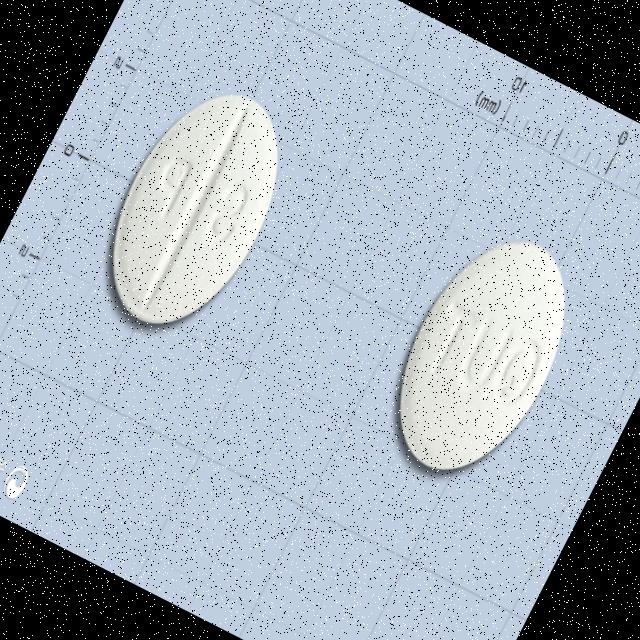Qupron Tab: (75, 66, 313, 355), (363, 212, 600, 498)
